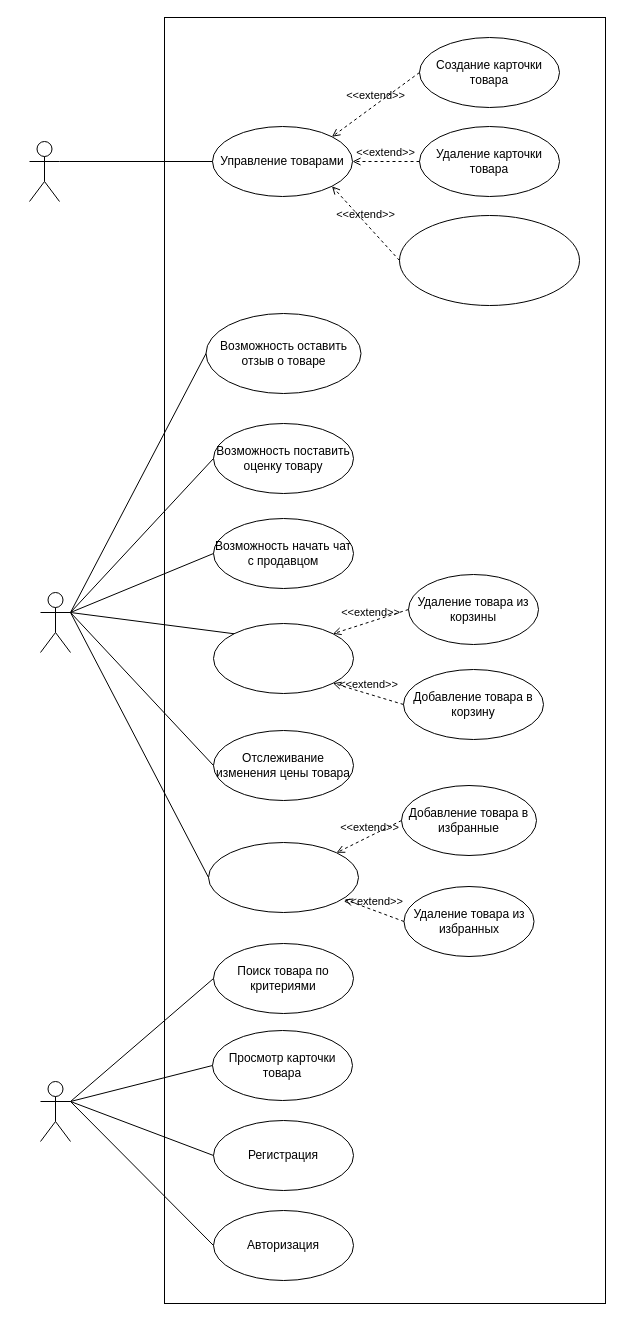
Image size: 623x1321. Some labels were removed from this diagram. The shapes that lost their labels are listed below. From the top down, each one's centre as x and y in pixels, then its label:
the point at 44,171: Продавец
the point at 489,260: Изменение информации о товаре
the point at 55,622: Покупатель
the point at 283,658: Управление корзиной
the point at 283,877: Управление избранными товарами
the point at 55,1111: Гость
